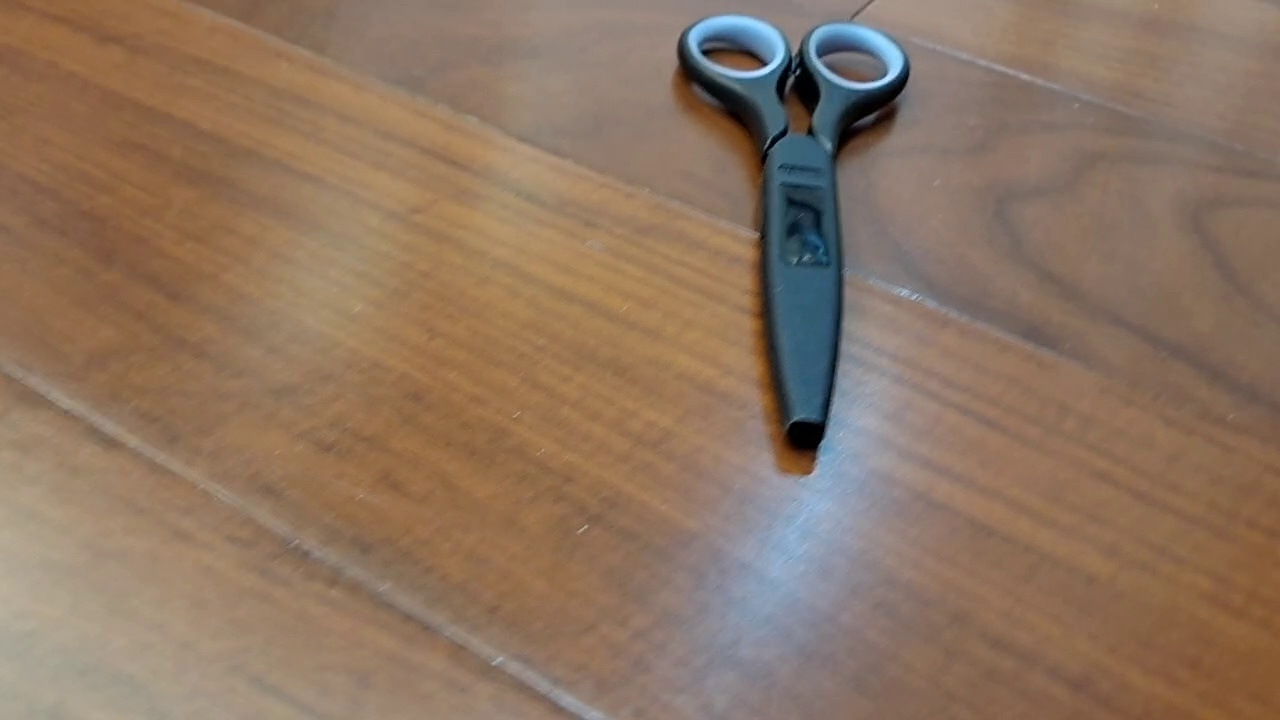scissors: (677, 14, 911, 453)
